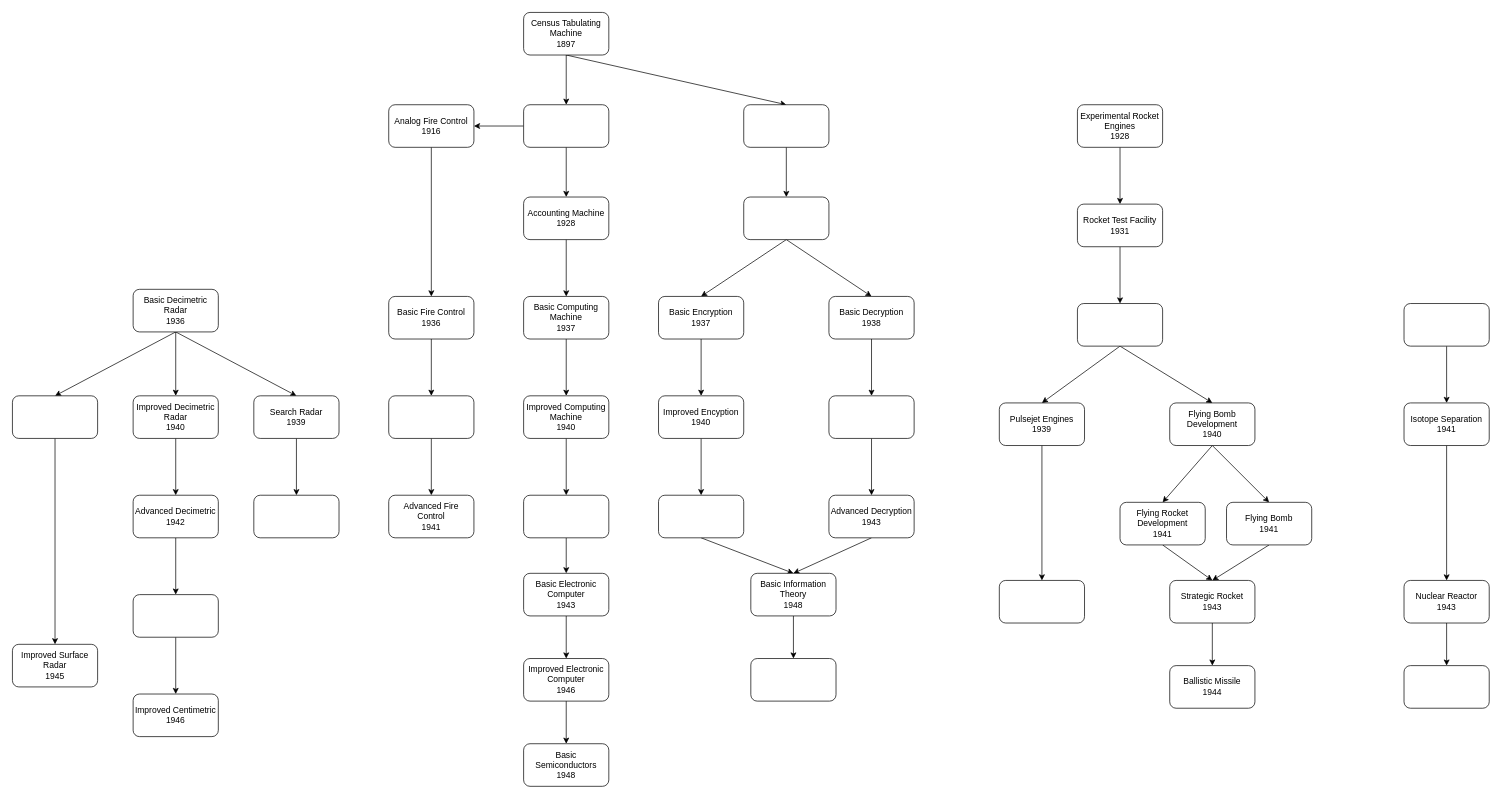
This 1502x799 diagram has some shape labels left out. Each missing label, with the centre of its shape:
Advanced Computing Machine 1942: (x=566, y=516)
Advanced Encyption 1943: (x=701, y=516)
Air Radar 1941: (x=296, y=516)
Atomic Research 1936: (x=1446, y=324)
Automatic Feed Tabulator 1908: (x=566, y=125)
Basic Centimetric 1944: (x=175, y=615)
Ciphering Machine 1918: (x=786, y=125)
Improved Decryption 1941: (x=871, y=416)
Improved Fire Control 1939: (x=431, y=416)
Post-War Spycraft 1948: (x=793, y=679)
Rocket Engines 1939: (x=1120, y=324)
Surface Radar 1937: (x=55, y=416)
Teleprinter 1922: (x=786, y=218)
The Bomb 1945: (x=1446, y=686)
Turbojet Engines 1943: (x=1042, y=601)
